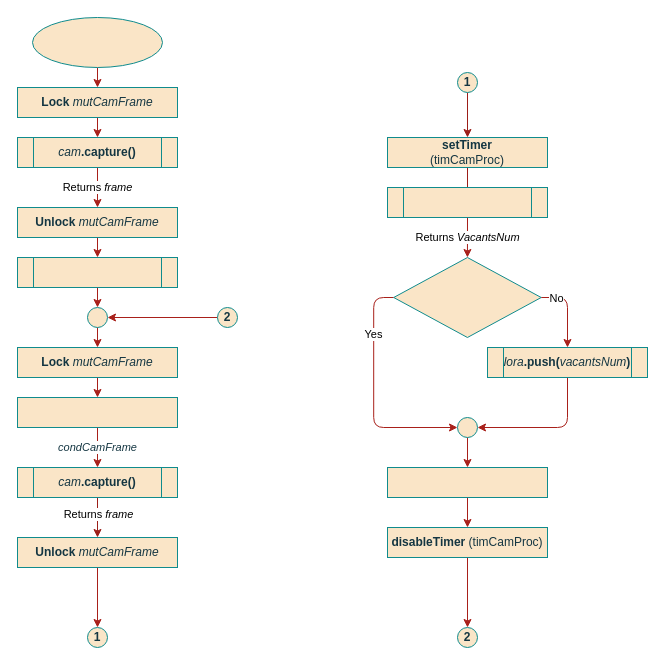
This 665x665 diagram has some shape labels left out. The centre of each missing label's shape, as x and y in pixels:
"oldVacantsNum <- vacantsNum" goes at pixel 467 482.
"park .getOutline( frame )" goes at pixel 97 272.
"park .getVacants( frame )" goes at pixel 467 202.
"tParkDetection" goes at pixel 97 42.
"vacantsNum == oldVacantsNum" goes at pixel 467 297.
"Wait for condCamFrame" goes at pixel 97 412.
